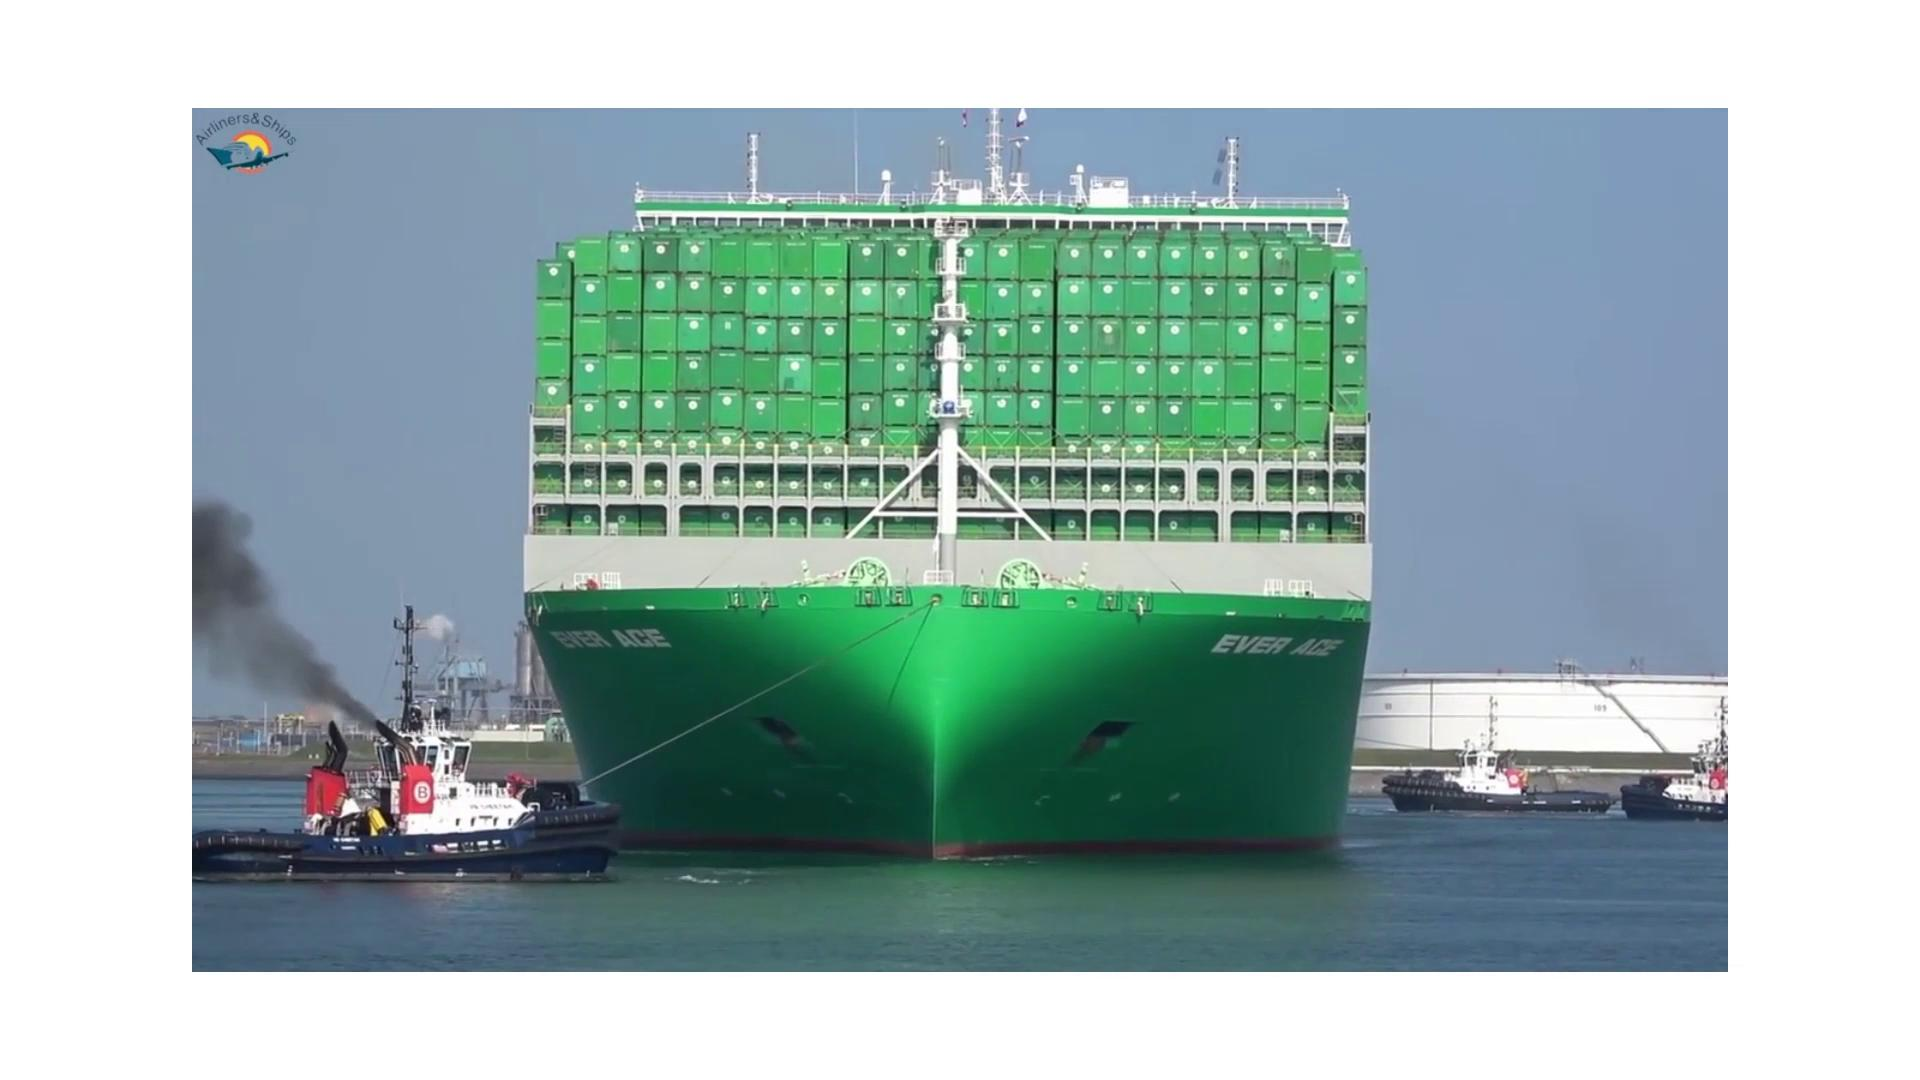OCR: (1189, 612, 1367, 687), (541, 609, 684, 674)
